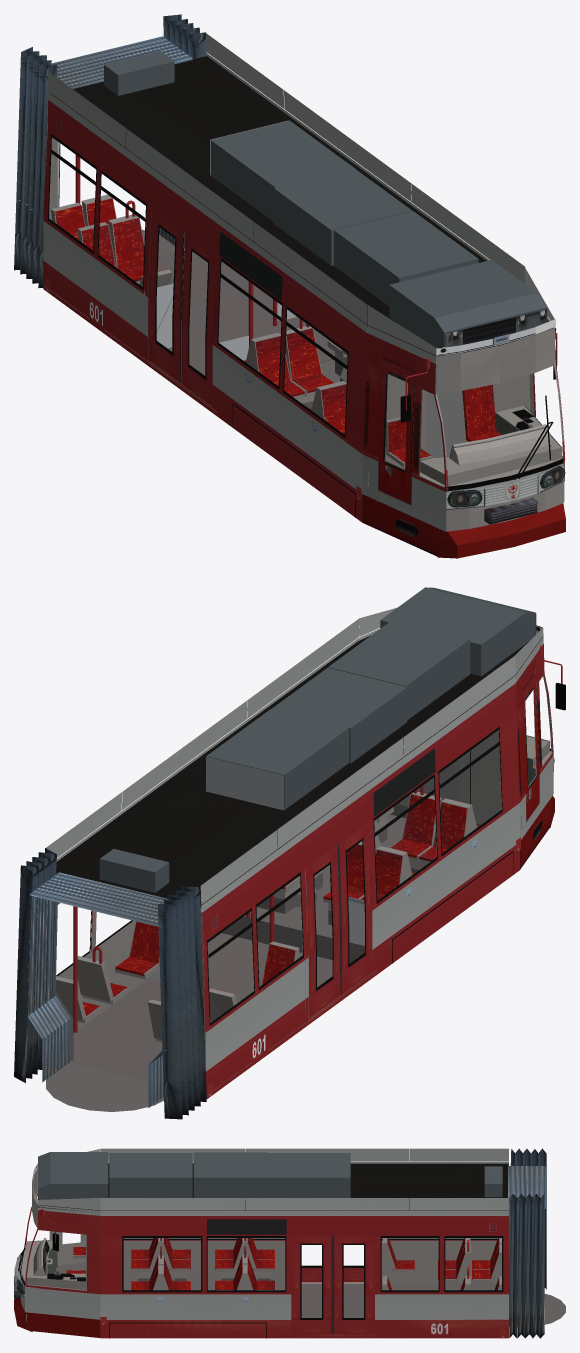
Rendered from mgt_a.obj.
3 views of the same model, one above another, from view 1: azimuth 30°, elevation 25°; view 2: azimuth 150°, elevation 25°; view 3: azimuth 270°, elevation 25° (orthographic). The views are drawn at different scales.
Visible parts, largest first — view 1: EXT, INT, D_RL, GOR, D_RR, DL_RR, DL_RL; view 2: EXT, INT, GOR, D_RL, D_RR, DL_RR, DL_RL; view 3: EXT, INT, D_LR, D_LL, GOR, DL_LR, DL_LL, D_RR, D_RL.
Boxes of the visible parts, left/top/right/bottom form: EXT: left=14, top=14, right=565, bottom=558; INT: left=43, top=99, right=564, bottom=539; D_RL: left=148, top=207, right=183, bottom=383; GOR: left=51, top=36, right=193, bottom=245; D_RR: left=181, top=231, right=216, bottom=406; DL_RR: left=182, top=231, right=216, bottom=401; DL_RL: left=148, top=299, right=180, bottom=382; EXT: left=14, top=587, right=565, bottom=1119; INT: left=46, top=638, right=552, bottom=1111; GOR: left=27, top=872, right=168, bottom=1107; D_RL: left=305, top=844, right=341, bottom=1018; D_RR: left=338, top=823, right=372, bottom=994; DL_RR: left=339, top=821, right=372, bottom=993; DL_RL: left=309, top=934, right=341, bottom=1017; EXT: left=14, top=1148, right=546, bottom=1338; INT: left=19, top=1172, right=565, bottom=1326; D_LR: left=332, top=1235, right=374, bottom=1334; D_LL: left=291, top=1235, right=332, bottom=1334; GOR: left=508, top=1166, right=546, bottom=1325; DL_LR: left=332, top=1235, right=374, bottom=1334; DL_LL: left=291, top=1249, right=332, bottom=1334; D_RR: left=301, top=1265, right=321, bottom=1281; D_RL: left=343, top=1265, right=363, bottom=1281.
Size of the model in its own units: 2.43 by 3.25 by 10.48.
Materials: 20 (20 with a texture image).
